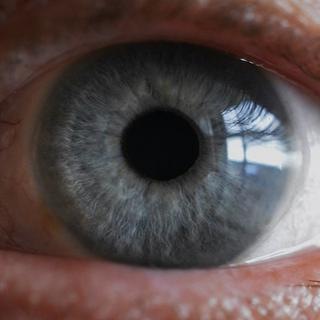pupil: (124, 106, 199, 182)
